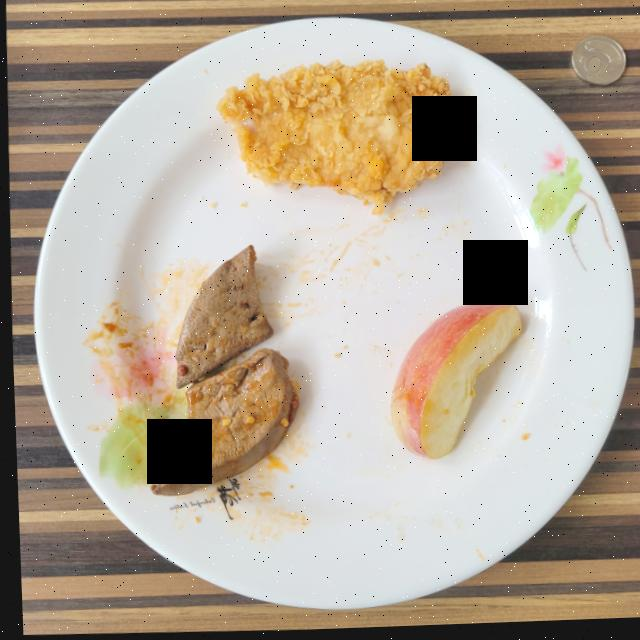apple -sliced-: (387, 303, 518, 461)
coin: (570, 39, 625, 90)
fried chicken cutlet: (216, 62, 456, 216)
pig liver: (147, 247, 295, 496)
